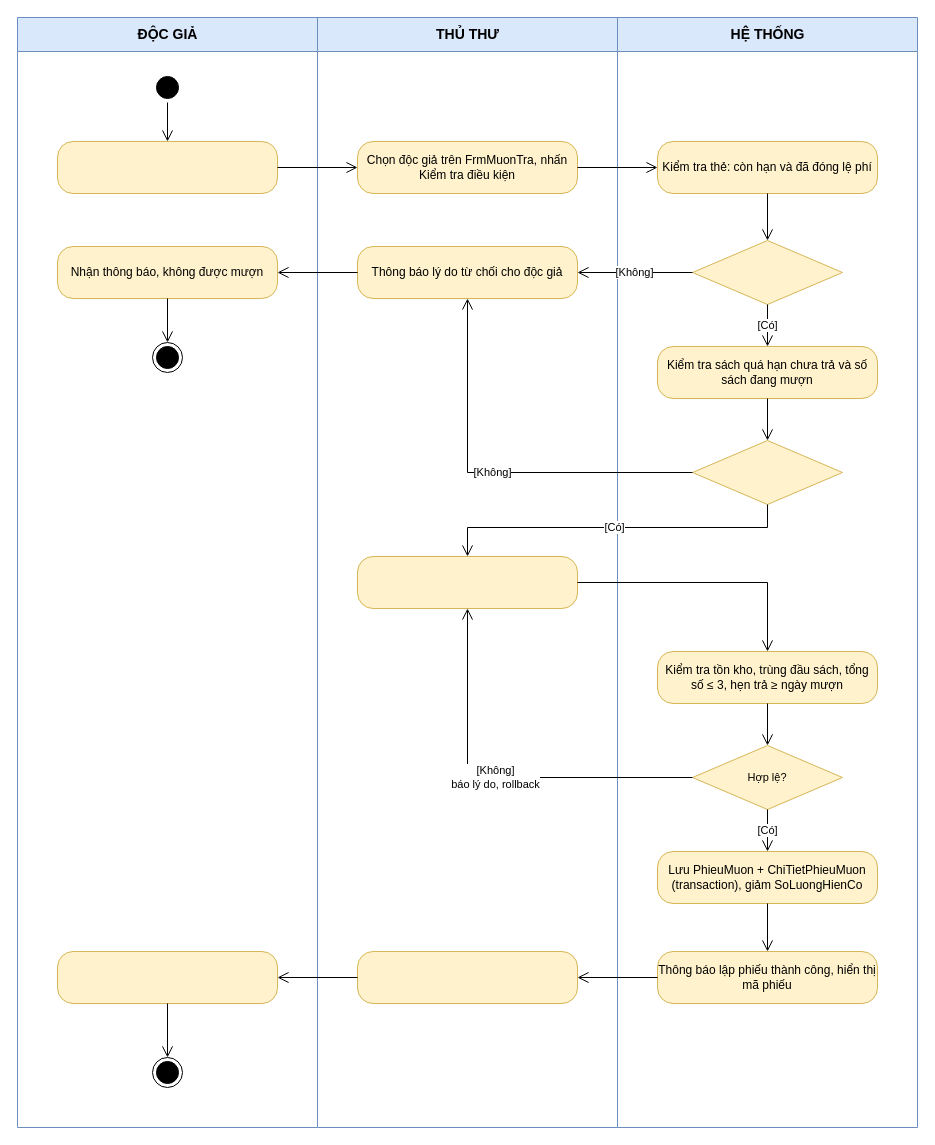
Some shapes in this 935 by 1145 pixel diagram are drawn without their labels. The centre of each missing label's shape, as x and y in pixels:
Chọn 1–3 đầu sách khác nhau, nhân viên, ngày mượn, hẹn trả; nhấn Lập phiếu: the point at 467,582
Giao sách cho độc giả: the point at 467,977
Nhận sách và phiếu mượn: the point at 167,977
Thẻ hợp lệ?: the point at 767,272
Xuất trình thẻ thư viện, yêu cầu mượn sách: the point at 167,167
Đủ điều kiện?: the point at 767,472
